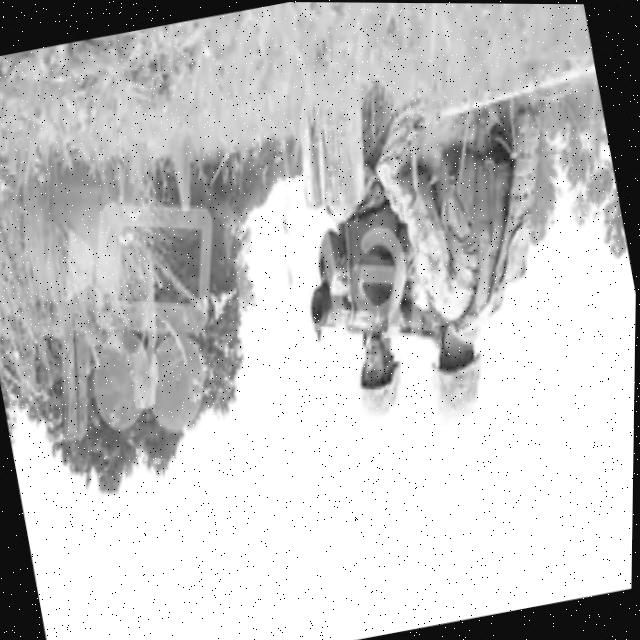rocket: (300, 261, 442, 363)
